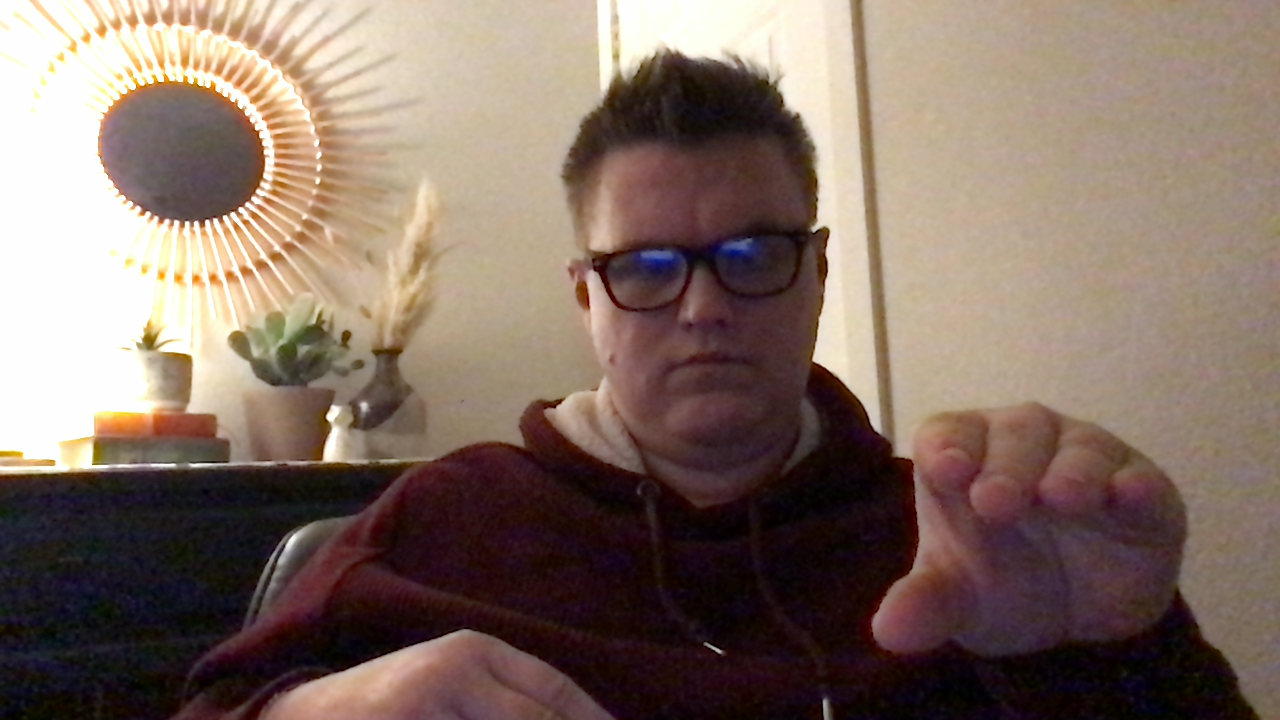no: (876, 396, 1217, 668)
